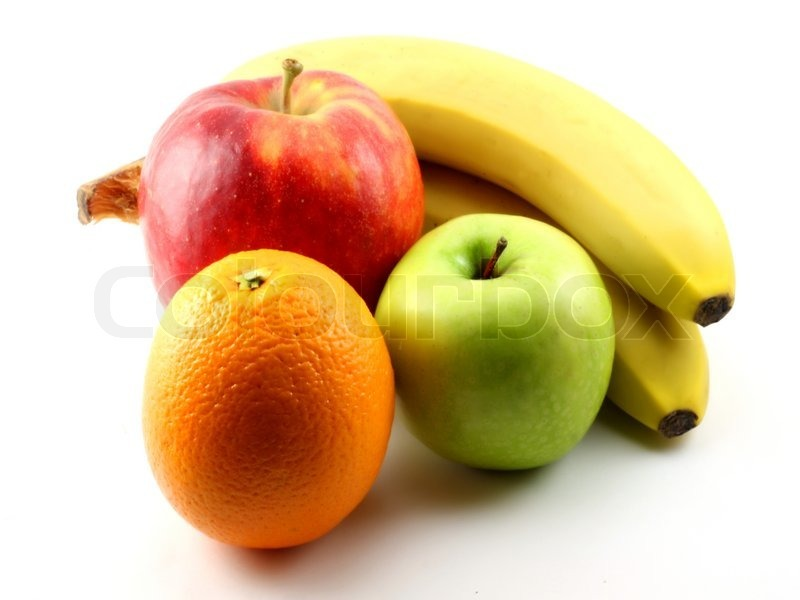apple: (129, 98, 449, 353)
banana: (204, 34, 753, 336)
orange: (138, 250, 402, 563)
